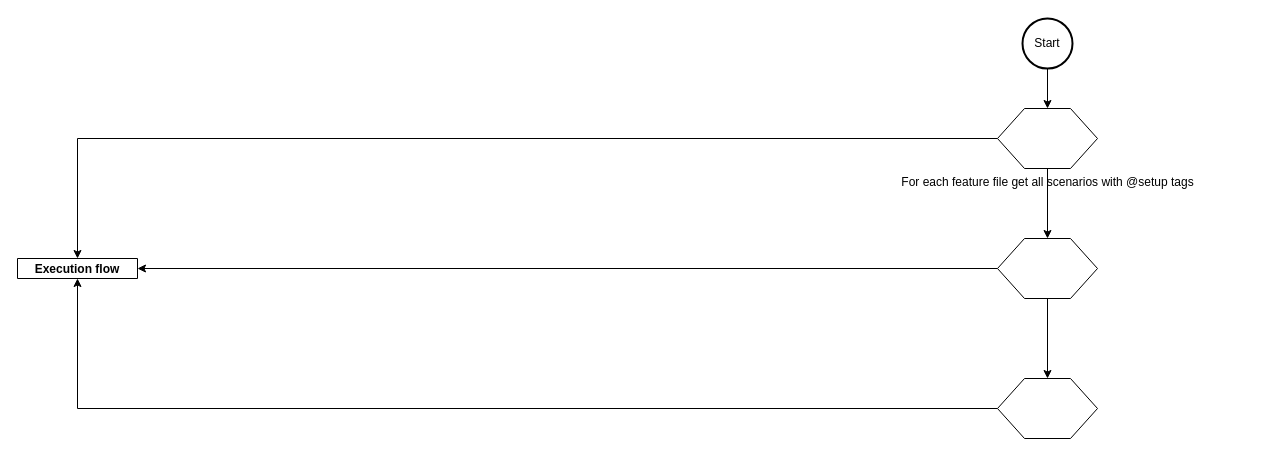
Image size: 1263x476. Some labels were removed from this diagram. Each missing label, with the centre of its shape:
For each feature file get all scenarios with @teardown tags: (x=1047, y=408)
For each feature file get all scenarios without @setup and @teardown tags: (x=1047, y=268)
